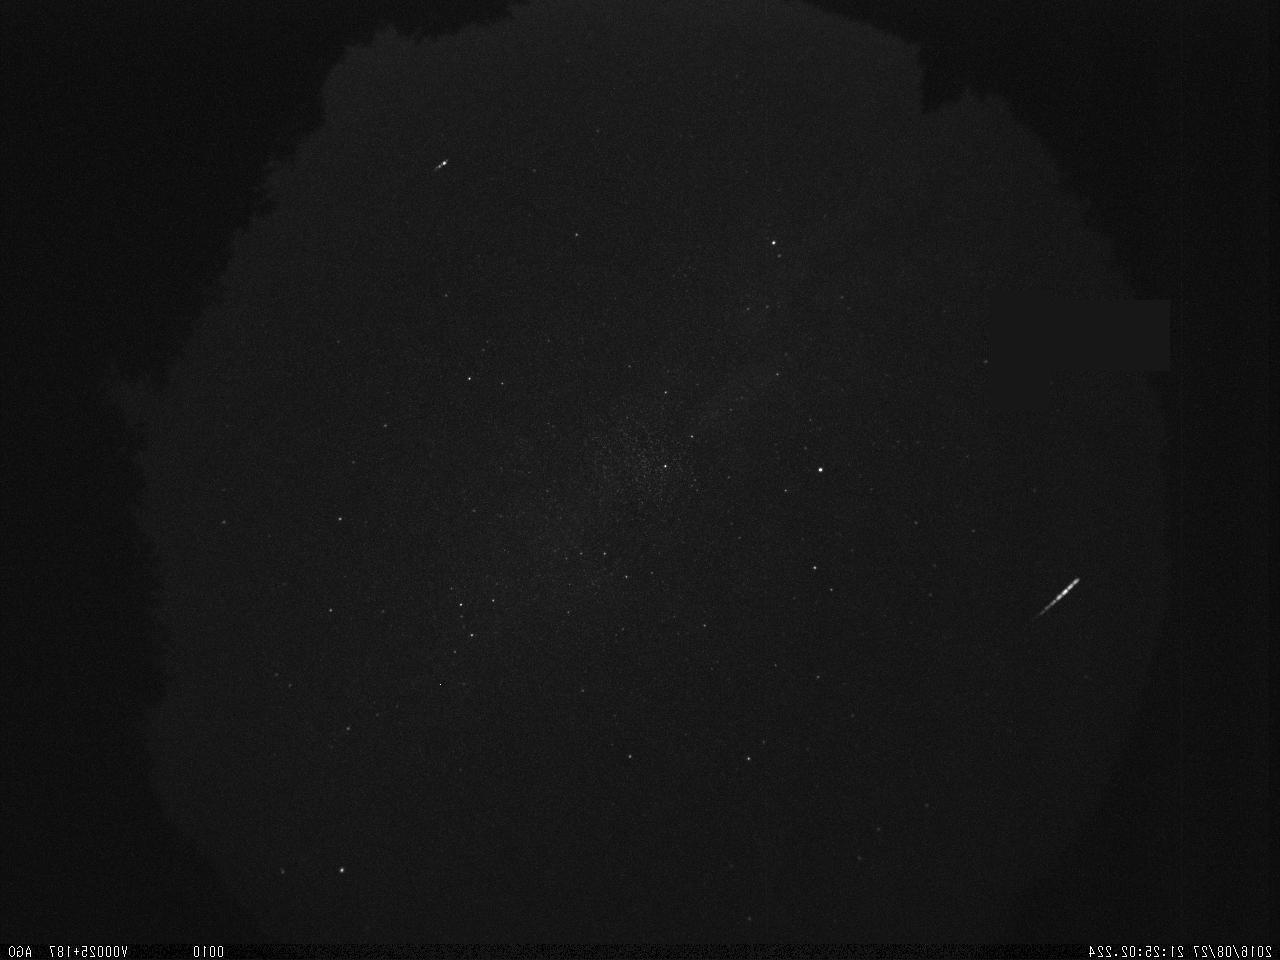meteor: (1005, 545, 1096, 657)
